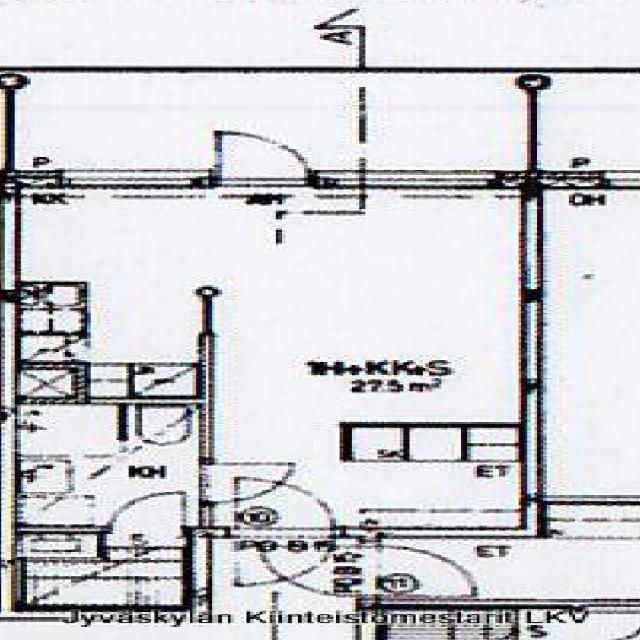door: (216, 121, 308, 187), (237, 475, 336, 536), (237, 526, 336, 586), (200, 462, 289, 502), (110, 489, 183, 531)
